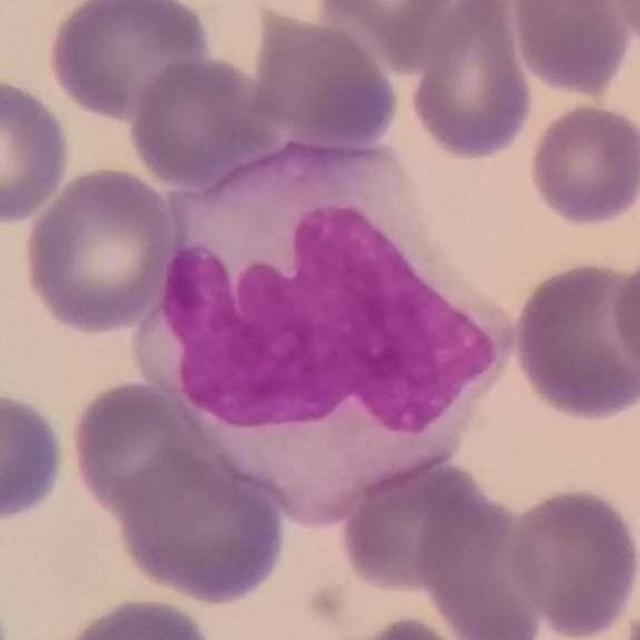mono: (132, 135, 523, 530)
